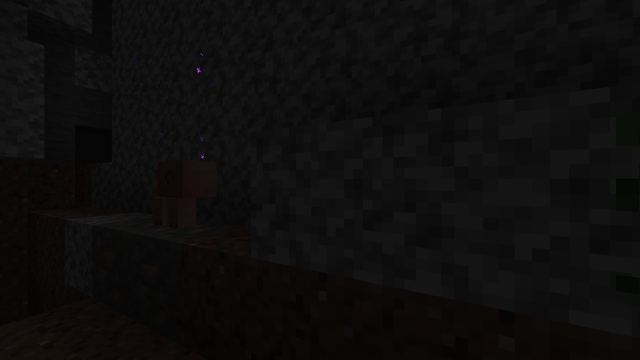cochons: (155, 158, 224, 228)
